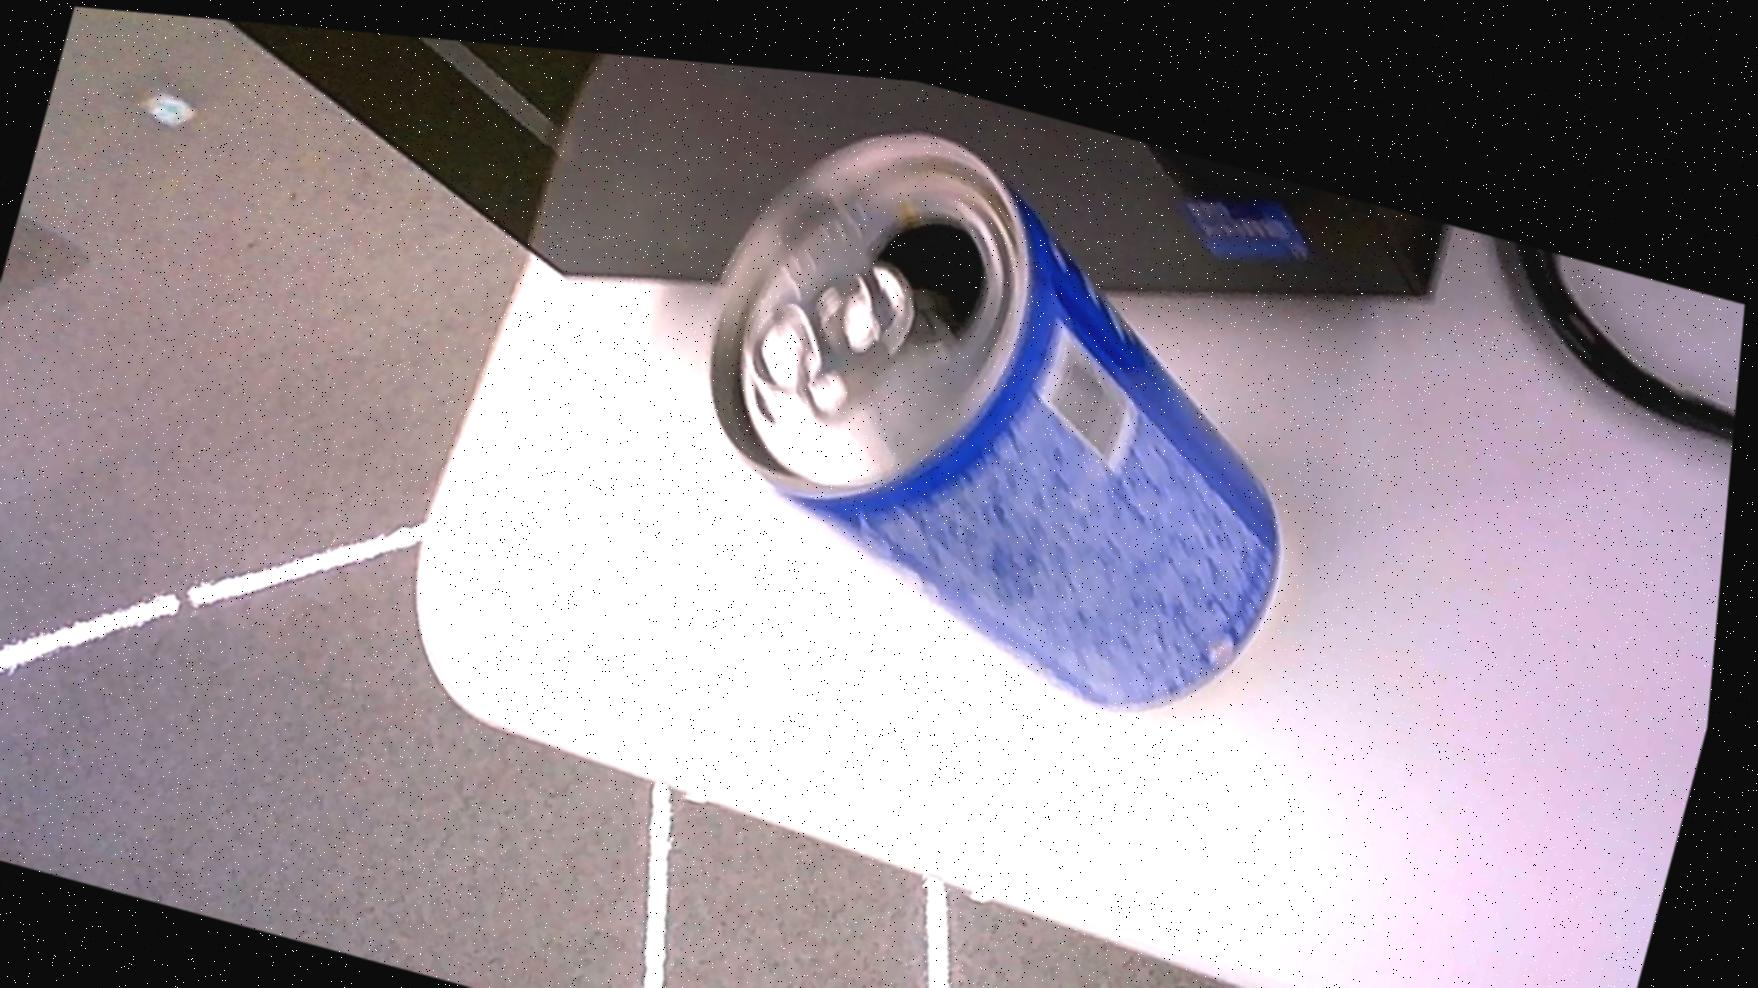letsbe: (641, 66, 1378, 732)
